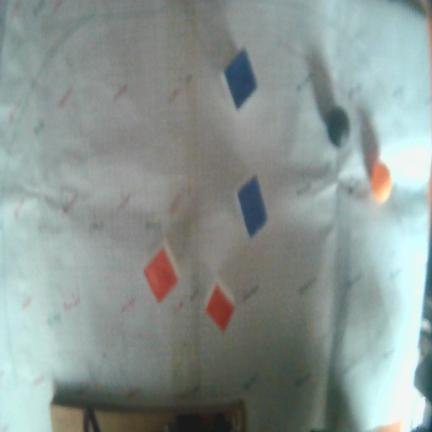circle_blue: (325, 106, 349, 147)
circle_orange: (370, 160, 392, 203)
rectangle_blue: (237, 176, 267, 237)
rectangle_orange: (205, 284, 234, 331)
square_blue: (224, 49, 256, 109)
square_orange: (144, 248, 178, 302)
